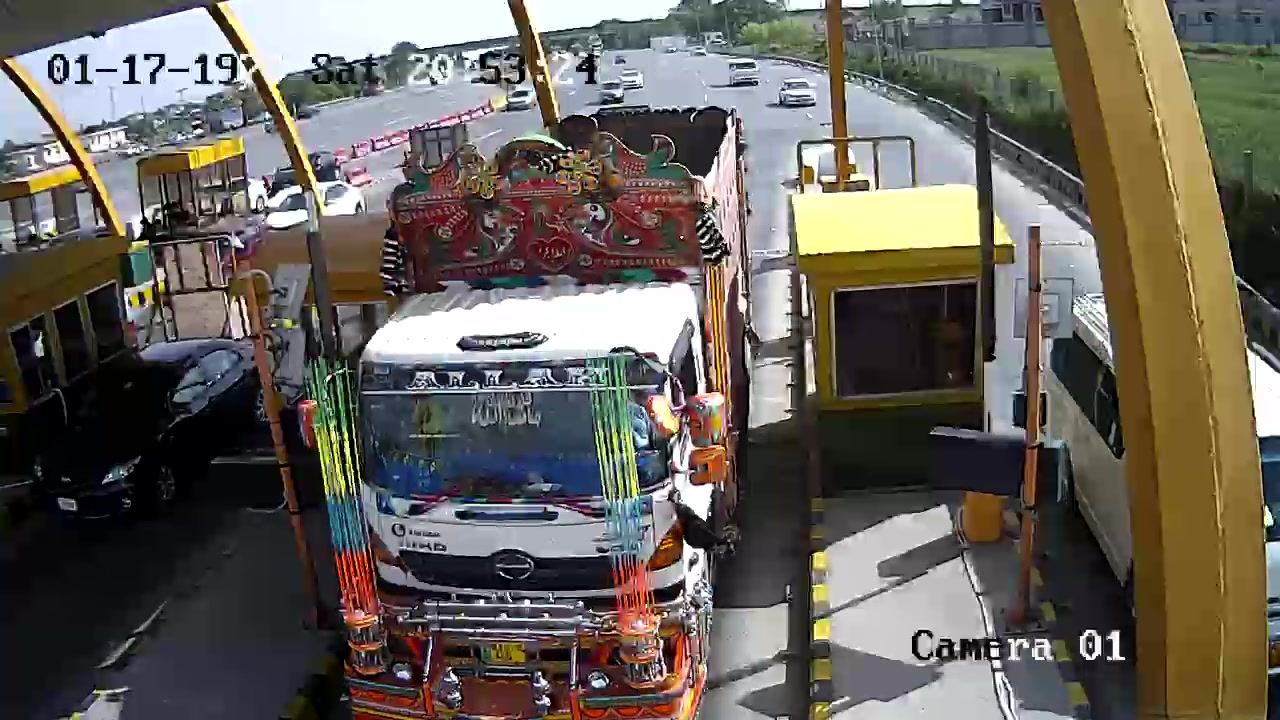F5: (342, 101, 754, 717)
